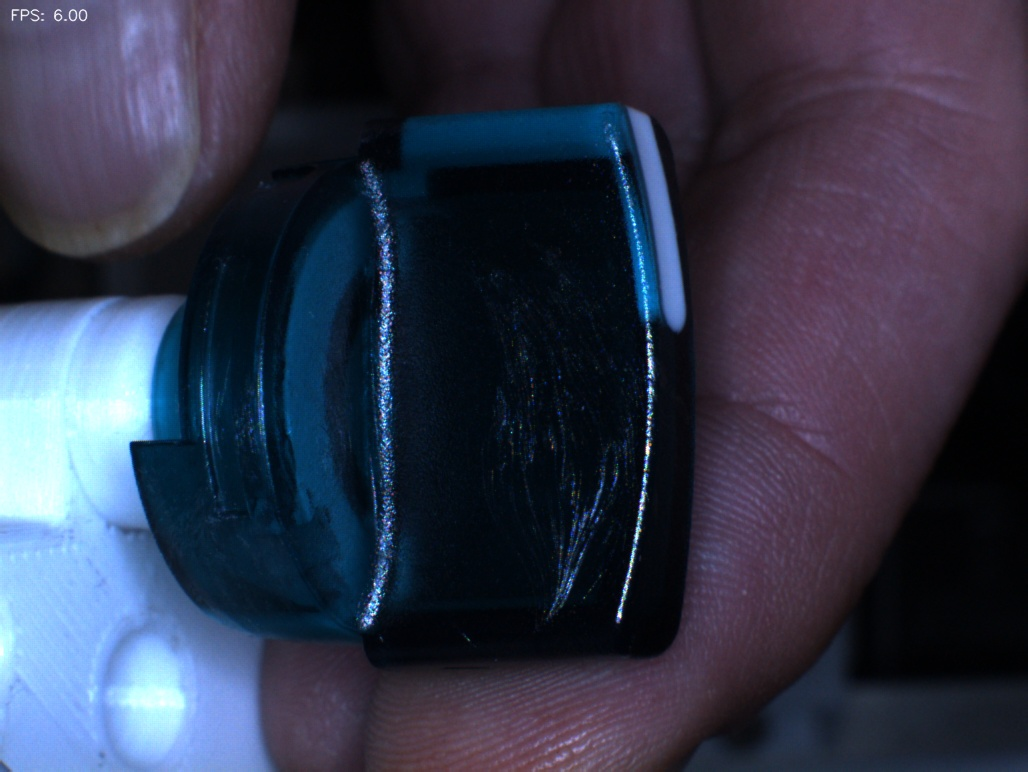Givrage: (477, 233, 615, 637)
